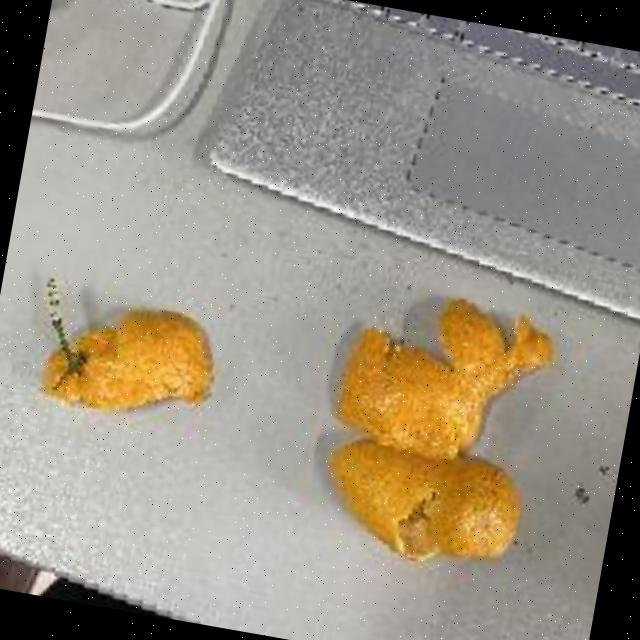orange-peel: (300, 278, 568, 576), (18, 278, 234, 432)
